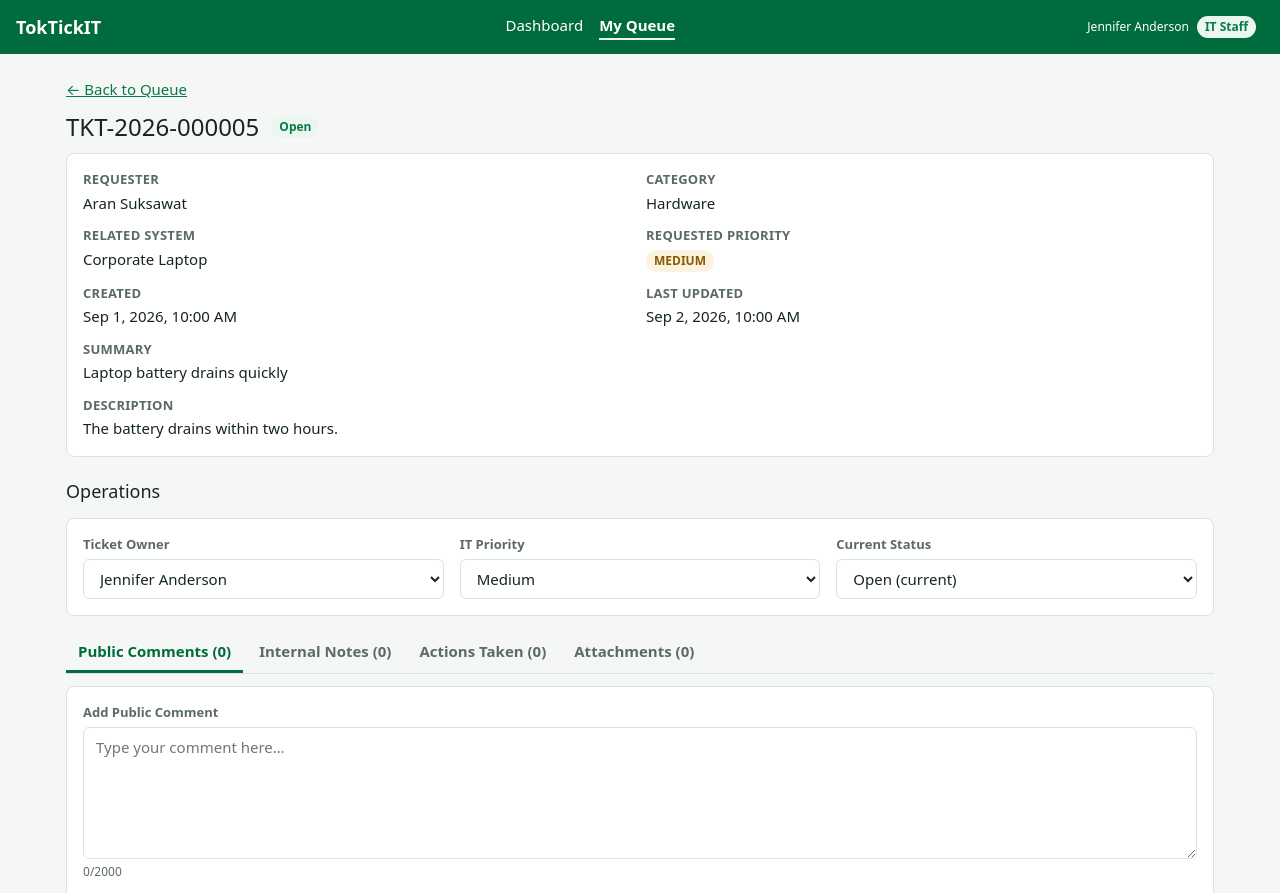
IT Staff Ticket workflow controls › UI-20: explains why Resolved is unavailable and disables Update status while blockers exist
Select "Resolved" in the dropdown labelled "Current Status" at point(1017, 579), box left=836, top=559, right=1197, bottom=599
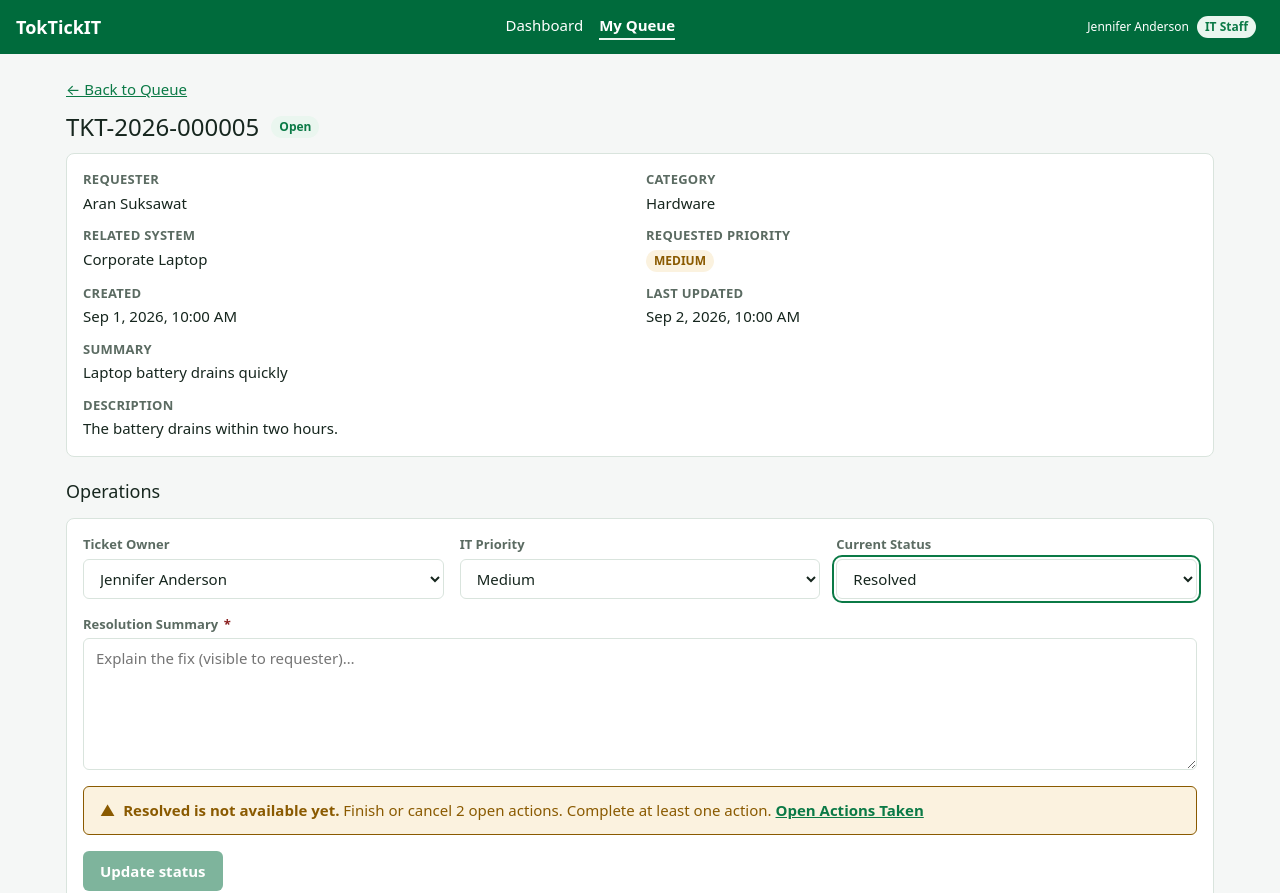
expect the text "Resolved is not available yet." is shown: met, box left=123, top=800, right=340, bottom=820
expect the text "complete at least one action" is shown: met, box left=343, top=800, right=772, bottom=820
expect the button "Update status" is disabled: met, box left=83, top=851, right=222, bottom=891
# The message links to the Actions Taken tab, where the open Actions are dealt with.
Click the button "Open Actions Taken" at point(850, 811), box left=776, top=799, right=924, bottom=822
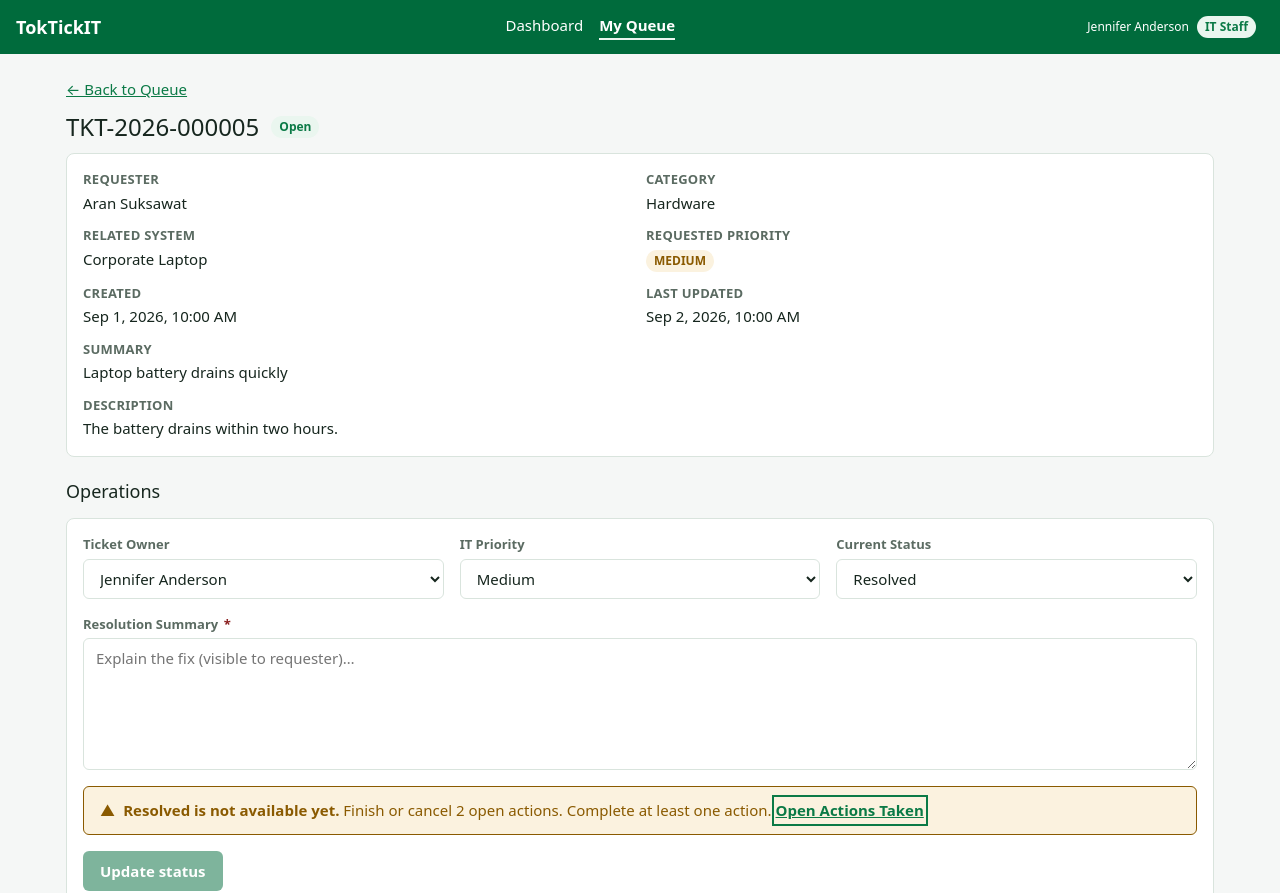
# Other targets are unaffected.
Select "Waiting for Requester" in the dropdown labelled "Current Status" at point(1017, 579), box left=836, top=559, right=1197, bottom=599
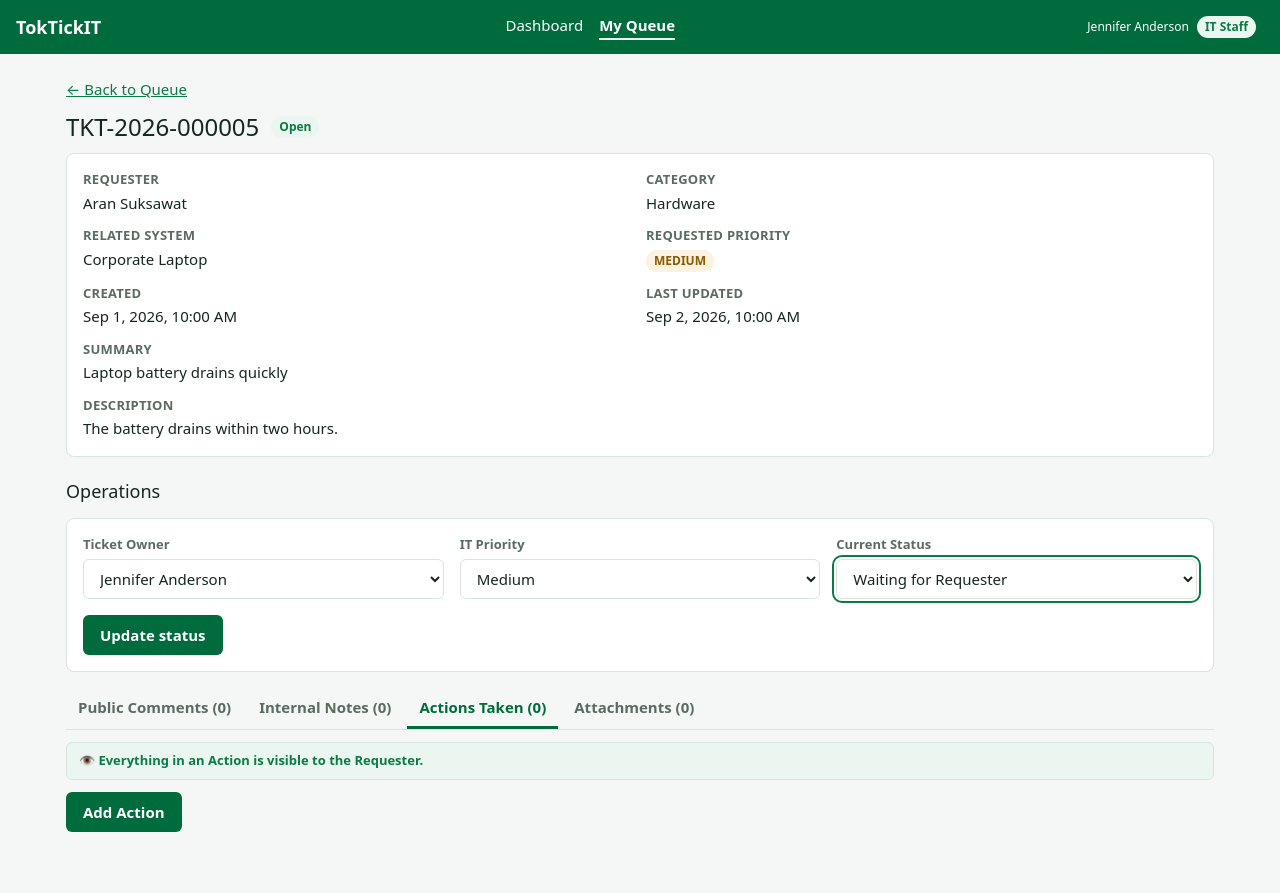
expect the text "Resolved is not available yet" is gone: met
expect the button "Update status" is enabled: met, box left=83, top=615, right=222, bottom=655
